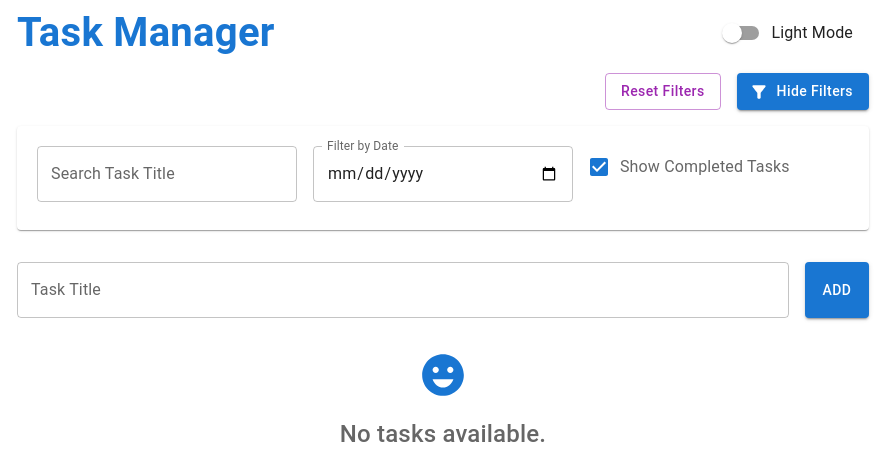
Test: App Component › add a new task and display it
Note: Simulate entering text into the input field and clicking the add button
In the field with placeholder "Task Title": (403, 290) top-left (17, 262), bottom-right (789, 318), type "Test Task"
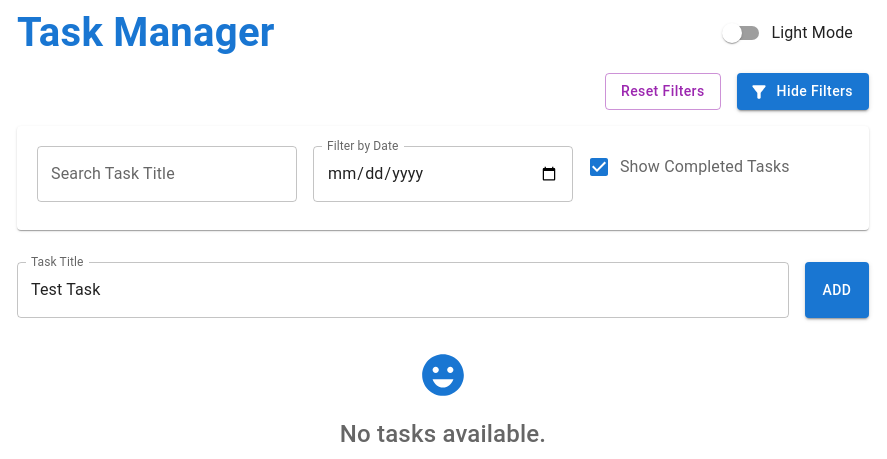
Click the button "Add": (837, 290) top-left (805, 262), bottom-right (869, 318)
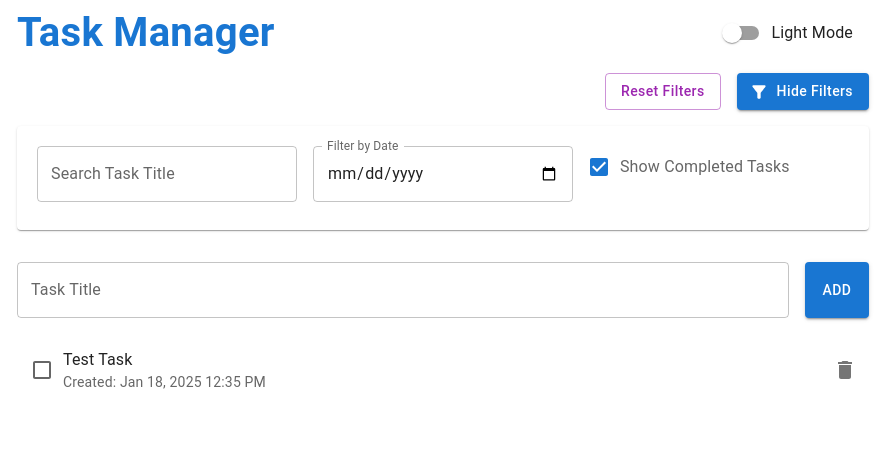
Expected: the text "Test Task" is shown, top-left (63, 350), bottom-right (132, 369)
